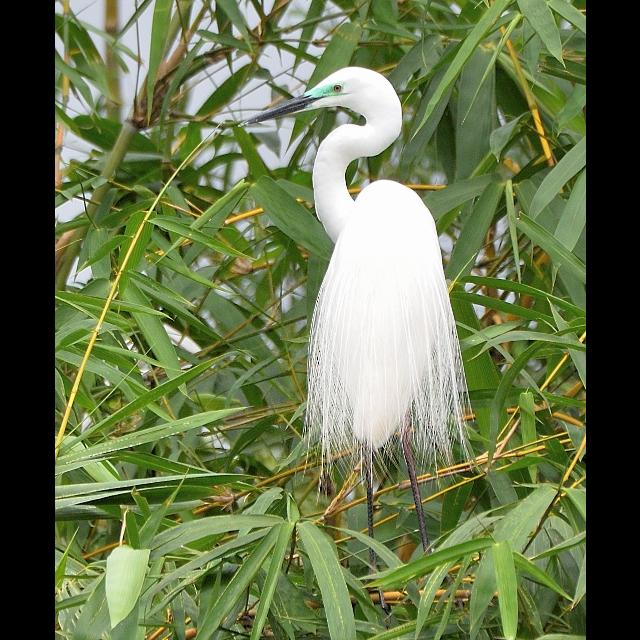egret: (249, 70, 453, 532)
